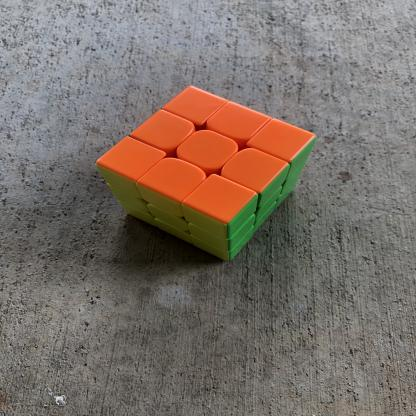SolvedCube: (83, 82, 325, 276)
